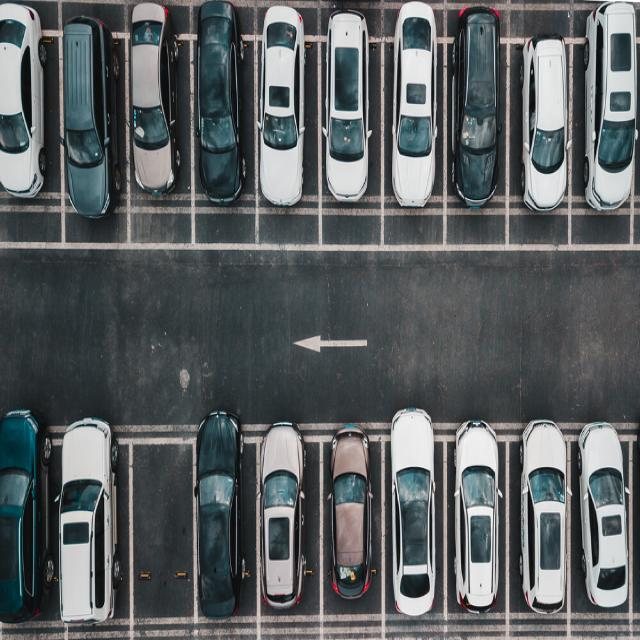space-empty: (127, 436, 194, 622)
space-occupied: (55, 415, 128, 624), (58, 1, 126, 212), (124, 4, 192, 204), (574, 9, 640, 210), (189, 11, 255, 205), (254, 425, 319, 614), (192, 422, 255, 617), (252, 20, 318, 206), (0, 0, 60, 202), (382, 423, 446, 609), (446, 18, 510, 204), (382, 22, 446, 205), (509, 29, 575, 206), (445, 424, 509, 605), (317, 24, 382, 202), (510, 427, 572, 612), (320, 431, 382, 615), (0, 409, 51, 620), (572, 428, 631, 608)
